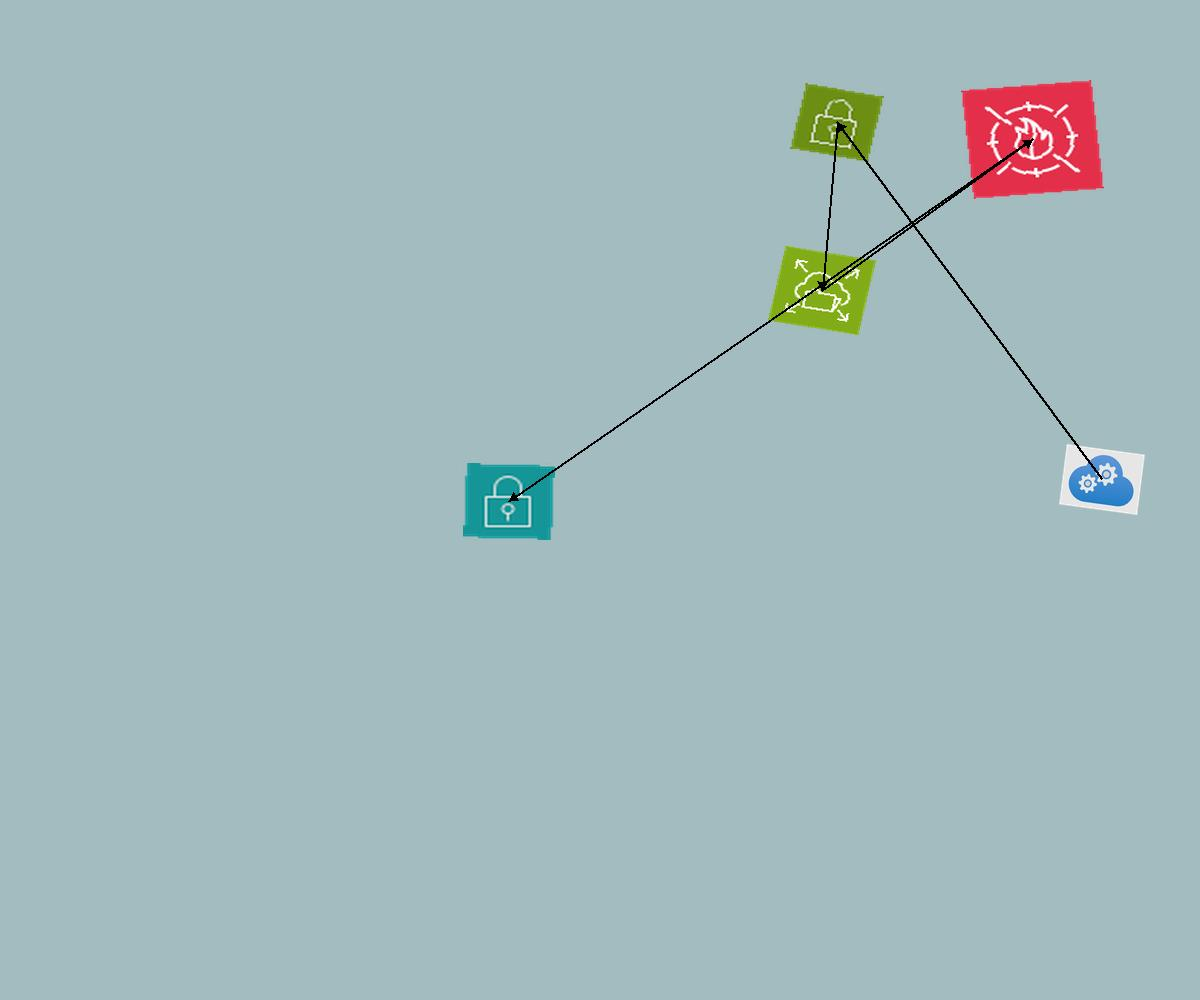AWS-EFS: (767, 245, 877, 336)
AWS-Private-subnet: (463, 463, 555, 540)
AWS-Public-subnet: (790, 83, 884, 162)
AWS-WAF: (961, 80, 1104, 199)
Azure_cloud_services: (1059, 444, 1145, 515)
